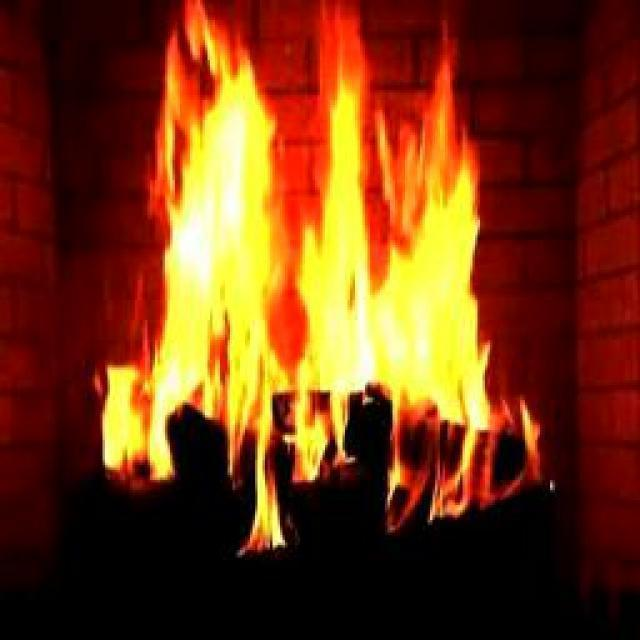Fire: (133, 77, 482, 507)
